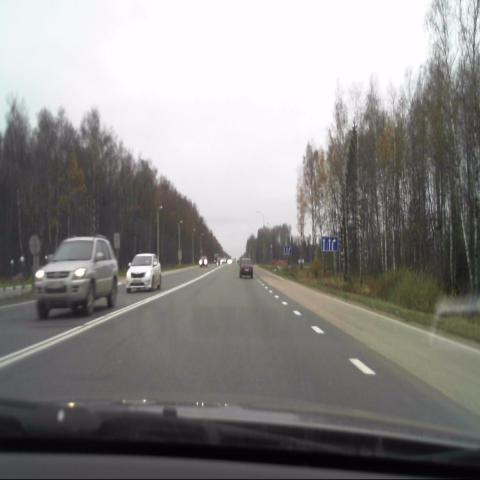5_15_1: (322, 236, 340, 251)
